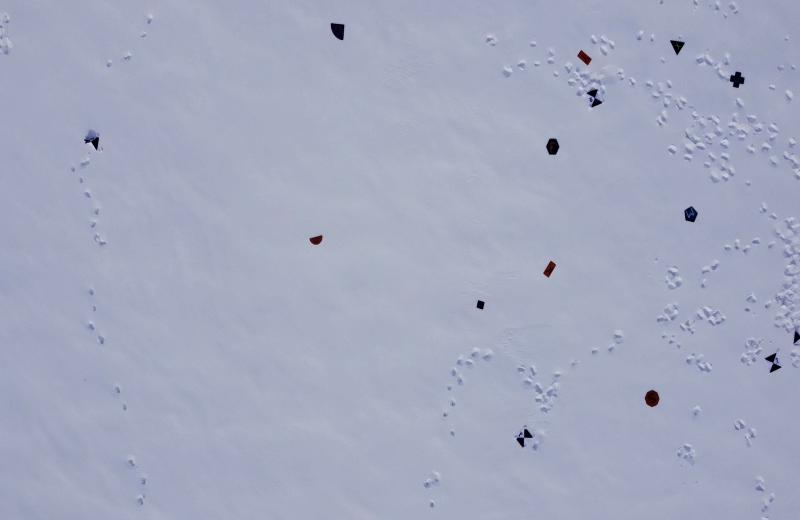Cross: (729, 70, 745, 89)
Hexagon: (544, 137, 560, 156)
Octagon: (643, 388, 660, 408)
Pentagon: (683, 205, 698, 224)
Quarter Circle: (329, 21, 347, 43)
Rectangle: (542, 260, 557, 279), (577, 48, 592, 66)
Semi Circle: (308, 233, 324, 246)
Square: (474, 299, 485, 312)
Triangle: (670, 38, 686, 58)
